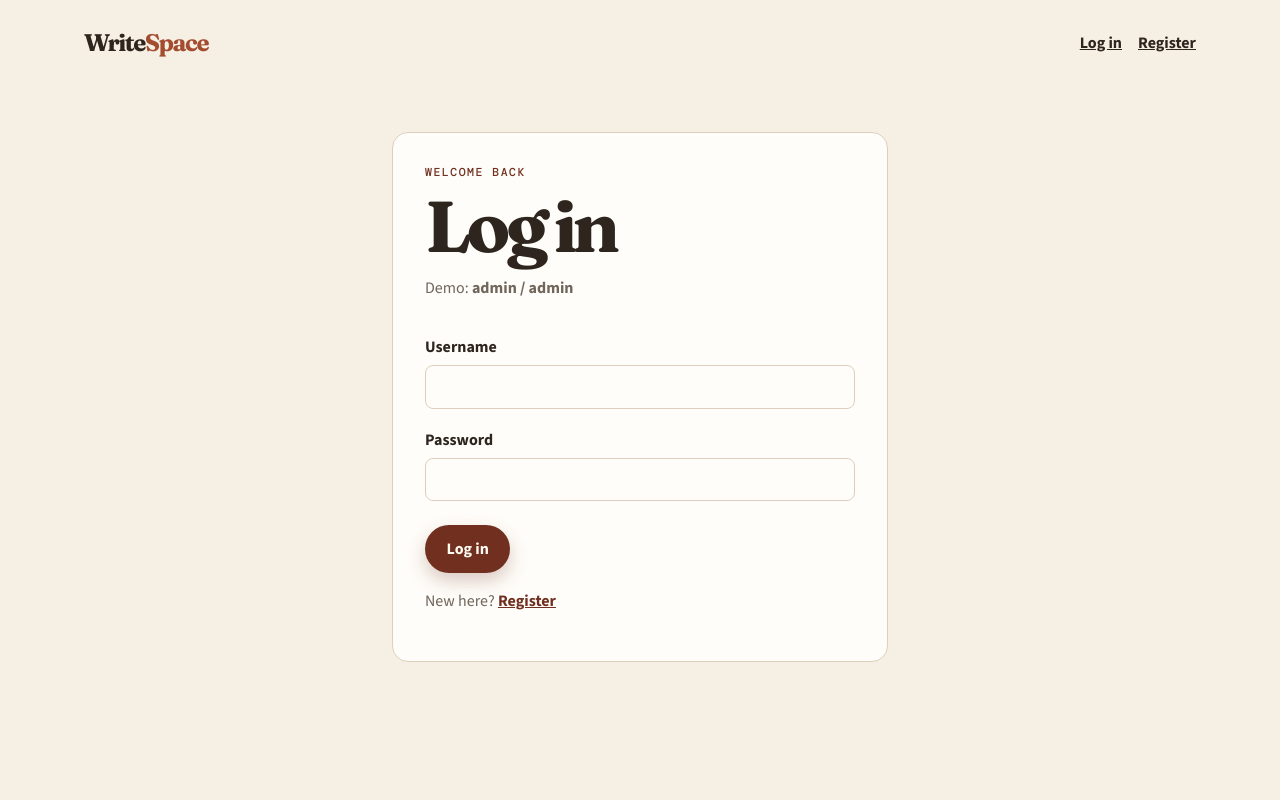
Test case: authentication pages › shows a login error inline without redirecting
Click the button "Log in".
click(468, 549)  # box [425,525,510,573]
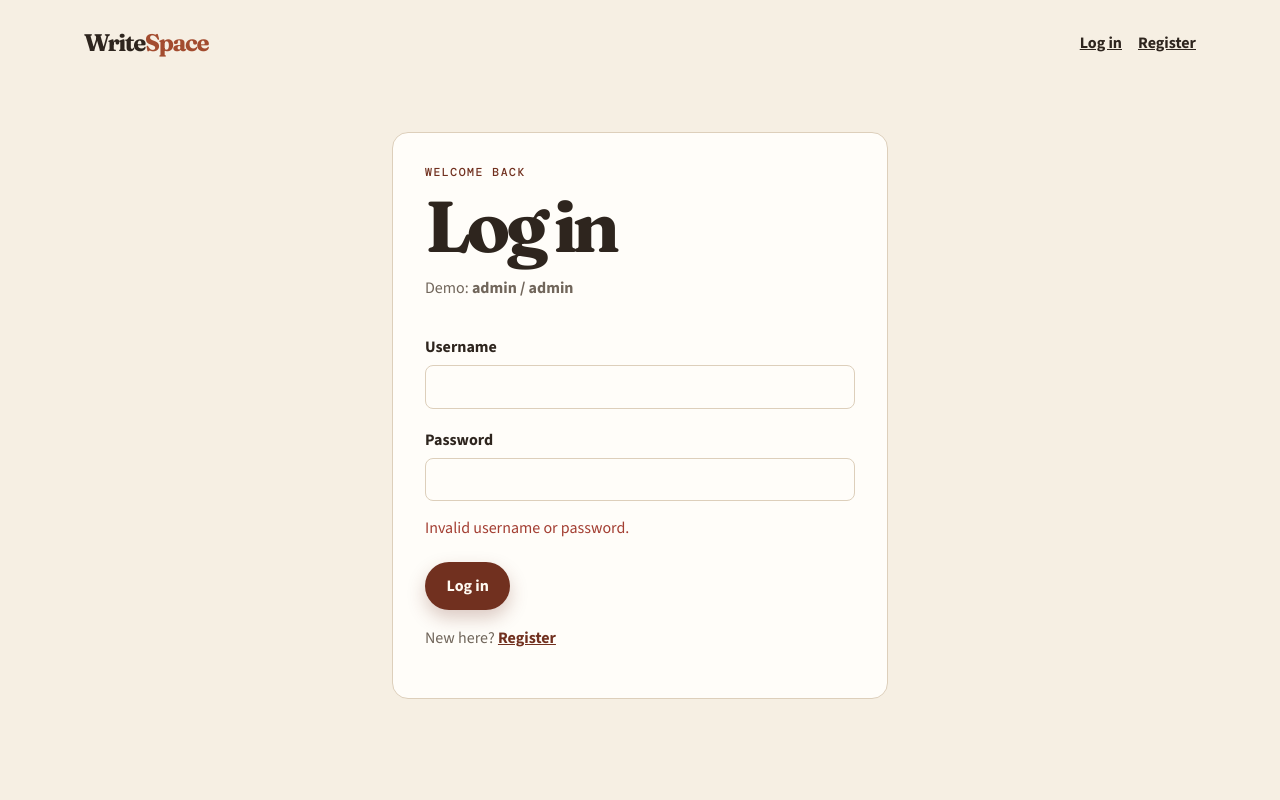
Check: the message reads "Invalid username or password.", box [425,517,629,538]
